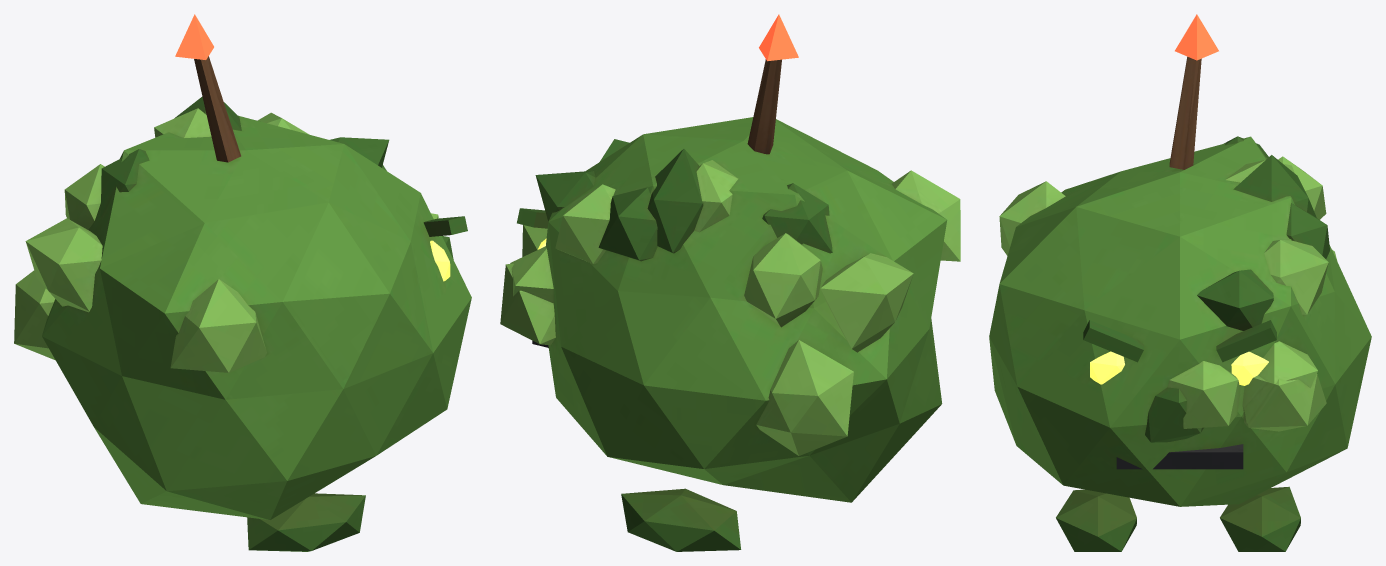
Rendered from pysare_tex.glb.
The picture shows the model from 3 angles, left to right: view 1: azimuth 30°, elevation 25°; view 2: azimuth 150°, elevation 25°; view 3: azimuth 270°, elevation 25°; orthographic projection. The views are drawn at different scales.
Parts seen in each view (by area): view 1: pysare; view 2: pysare; view 3: pysare.
Boxes of the visible parts, bbox=[...] form: pysare: bbox=[14, 14, 471, 551]; pysare: bbox=[500, 14, 960, 551]; pysare: bbox=[989, 14, 1371, 551].
Bounding box in the file's own units: 1.17 × 1.5 × 1.03.
7 materials, 5 textured.
